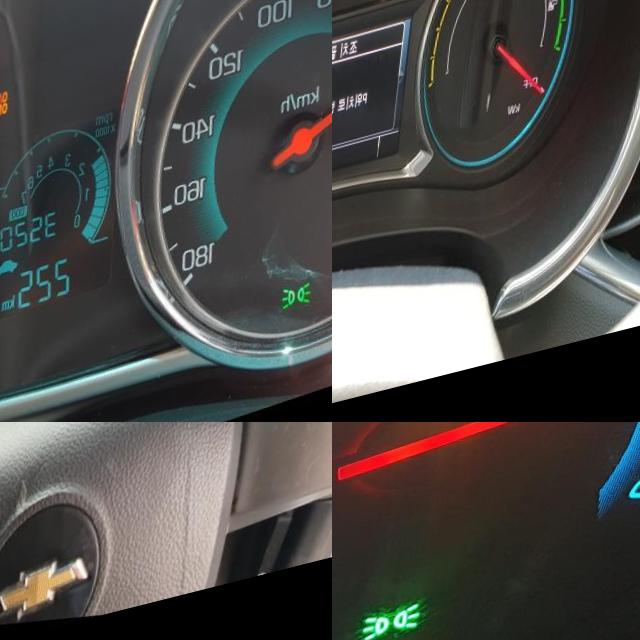SideLamp: (374, 618, 435, 640), (294, 300, 327, 334)
